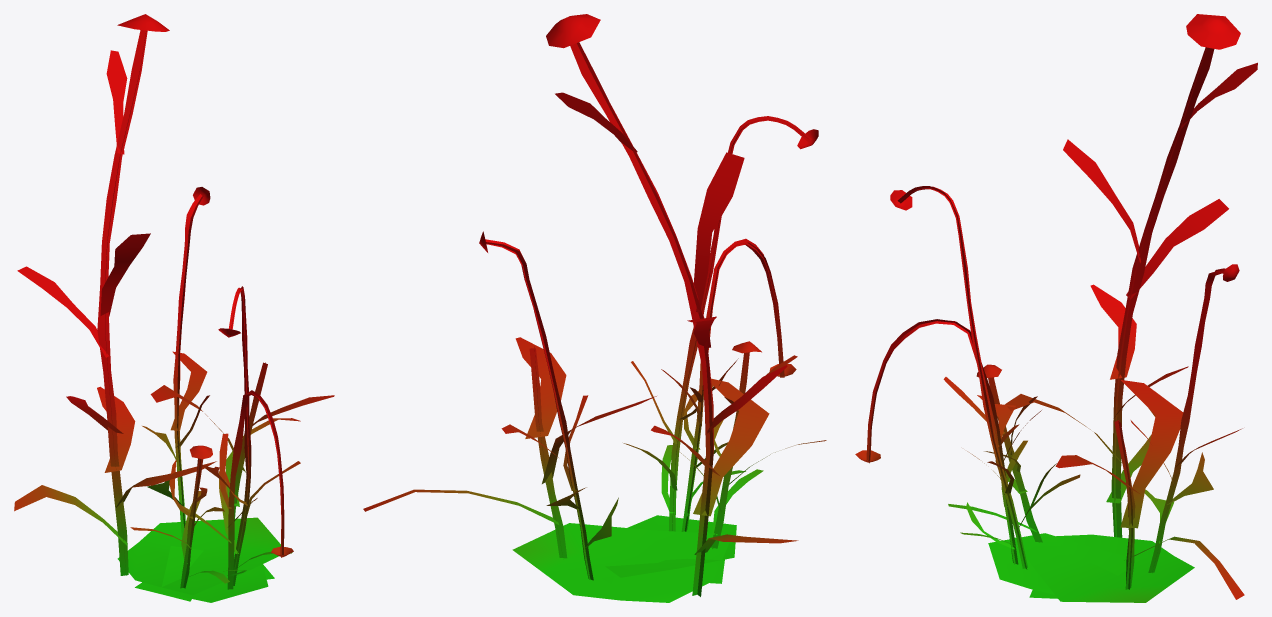
File: Var13_LOD0.fbx
3 views of the same model, side by side, from view 1: azimuth 30°, elevation 25°; view 2: azimuth 150°, elevation 25°; view 3: azimuth 270°, elevation 25° (orthographic). The views are drawn at different scales.
Visible parts, largest first — view 1: _98af_Var13_LOD0; view 2: _98af_Var13_LOD0; view 3: _98af_Var13_LOD0.
Boxes of the visible parts, left/top/right/bottom form: _98af_Var13_LOD0: left=14, top=14, right=334, bottom=602; _98af_Var13_LOD0: left=363, top=14, right=826, bottom=602; _98af_Var13_LOD0: left=855, top=14, right=1257, bottom=602.
Size of the model in its own units: 15.59 by 23.09 by 15.19.
